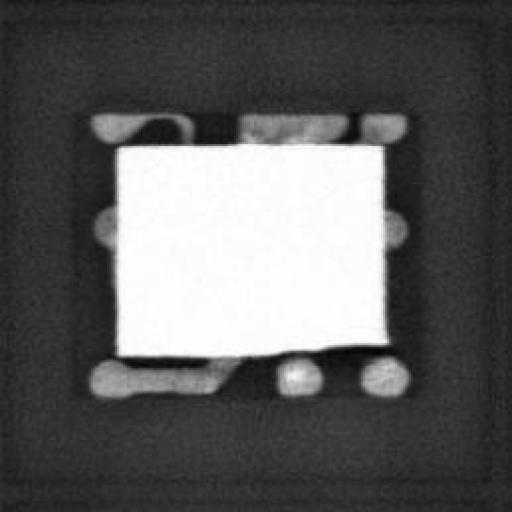DIE_BROKEN: (262, 338, 393, 358)
